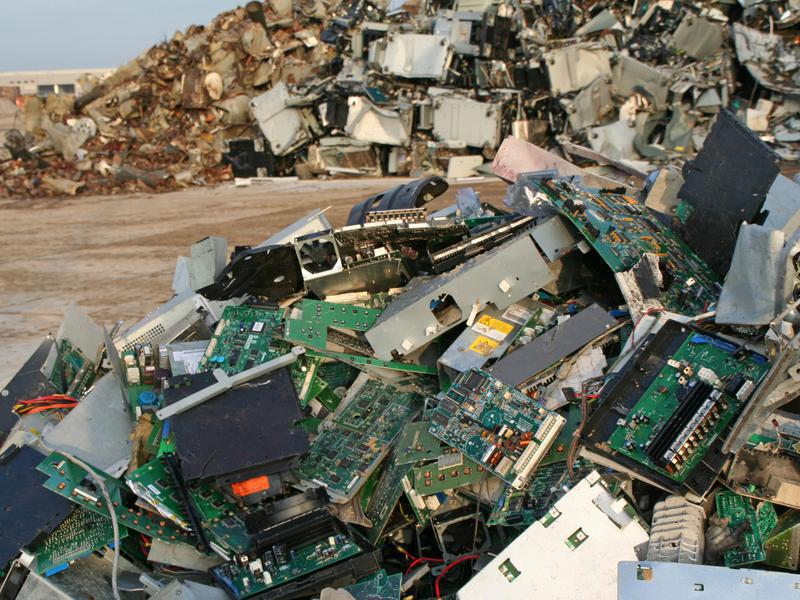circuit_board: (572, 302, 774, 499), (525, 170, 737, 323), (279, 372, 423, 504), (426, 367, 569, 492), (32, 445, 204, 548), (203, 524, 375, 596), (20, 502, 137, 573), (201, 294, 288, 376), (97, 324, 202, 388), (279, 298, 394, 353), (709, 491, 789, 570)
